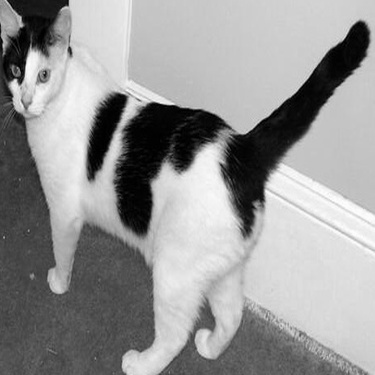cat: (2, 3, 369, 373)
